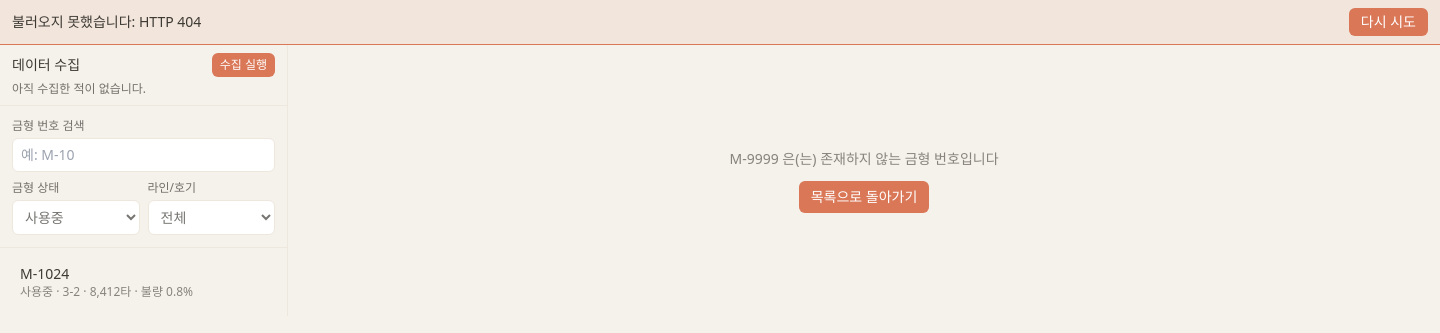
it: DashboardPage › clears the 404 error banner after clicking 목록으로 돌아가기
Check: the text "M-9999 은(는) 존재하지 않는 금형 번호입니다" is shown, box [730, 148, 999, 168]
Check: the text "불러오지 못했습니다: HTTP 404" is shown, box [12, 12, 201, 32]
Click the link "목록으로 돌아가기" at (864, 196), box [799, 180, 929, 212]
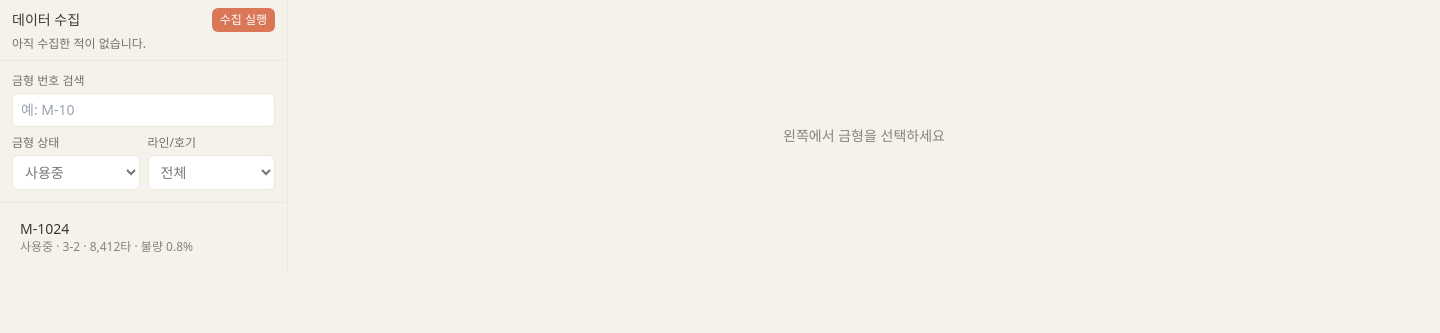
Check: the text "왼쪽에서 금형을 선택하세요" is shown, box [783, 126, 945, 144]
Check: the text "HTTP 404" is gone
Check: the button "다시 시도" is gone
